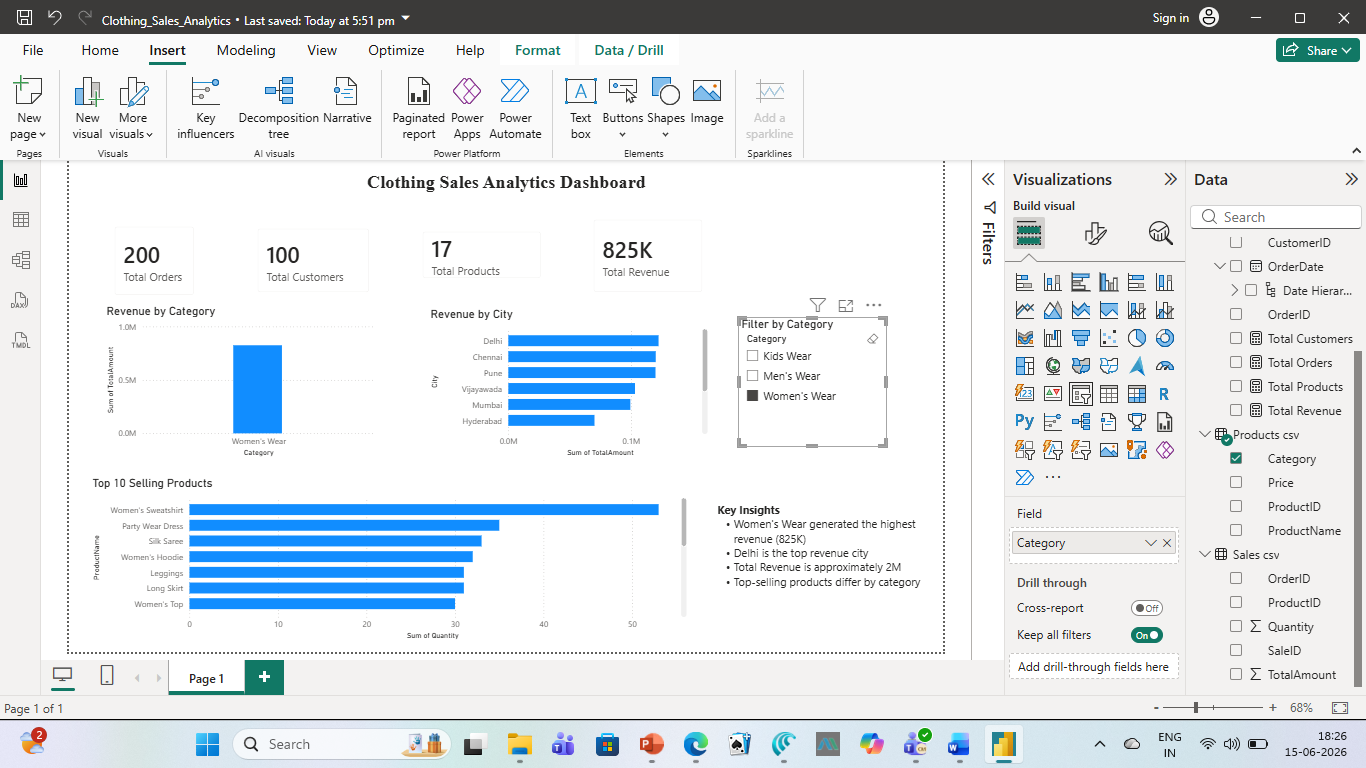

This screenshot's page, from the dashboard's own definition file:
{"tool":"powerbi","page":{"name":"Page 1","canvas":[1280,720],"ordinal":0},"visuals":[{"type":"cardVisual","fields":{"Data":["Orders csv.Total Customers"]},"box":[181.5,11.7,197.6,127.3],"z":0},{"type":"cardVisual","fields":{"Data":["Orders csv.Total Orders"]},"box":[16.1,10.2,150.7,134.6],"z":1000},{"type":"cardVisual","fields":{"Data":["Orders csv.Total Products"]},"box":[379,24.9,207.8,102.4],"z":2000},{"type":"cardVisual","fields":{"Data":["Orders csv.Total Revenue"]},"box":[600,0,193.2,140.5],"z":3000},{"type":"clusteredColumnChart","title":"Revenue by Category","fields":{"Category":["Products csv.Category"],"Y":["Sum(Sales csv.TotalAmount)"]},"box":[16.1,139,456.6,256.1],"z":4000},{"type":"clusteredBarChart","title":"Revenue by City","fields":{"Category":["customers csv.City"],"Y":["Sum(Sales csv.TotalAmount)"]},"box":[513.7,134.6,466.8,260.5],"z":4001},{"type":"clusteredBarChart","title":"Top 10 Selling Products","fields":{"Category":["Products csv.ProductName"],"Y":["Sum(Sales csv.Quantity)"]},"box":[29.3,405.4,1109.3,295.6],"z":4002},{"type":"slicer","fields":{"Values":["Products csv.Category"]},"box":[1028.8,111.2,218,283.9],"z":4003}]}

Visuals, with their boxes on the page's 1280x720 design canvas (x1, y1, x2, y2). These are canvas units, not pixel positions in the 1366x768 screenshot, which may show the page scaled, cropped or inside an application window:
cardVisual - Orders csv.Total Customers: bbox=[182, 12, 379, 139]
cardVisual - Orders csv.Total Orders: bbox=[16, 10, 167, 145]
cardVisual - Orders csv.Total Products: bbox=[379, 25, 587, 127]
cardVisual - Orders csv.Total Revenue: bbox=[600, 0, 793, 140]
"Revenue by Category" clusteredColumnChart: bbox=[16, 139, 473, 395]
"Revenue by City" clusteredBarChart: bbox=[514, 135, 980, 395]
"Top 10 Selling Products" clusteredBarChart: bbox=[29, 405, 1139, 701]
slicer - Products csv.Category: bbox=[1029, 111, 1247, 395]
